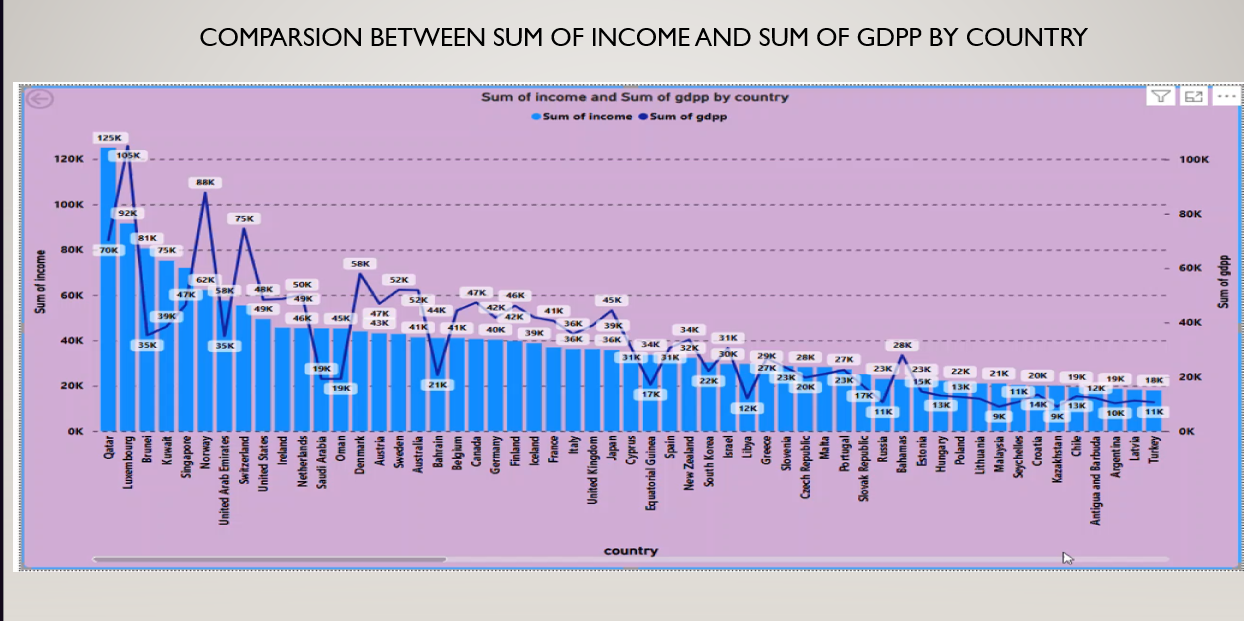

Layout of this report page (visuals, bound fields, positions):
{"tool":"powerbi","page":{"name":"Page 1","canvas":[1280,720],"ordinal":0},"visuals":[{"type":"actionButton","box":[0,0,100,40],"z":0},{"type":"textbox","box":[0,0,1166.2,720],"z":1000},{"type":"lineClusteredColumnComboChart","fields":{"Category":["Country-data.country"],"Y":["Max(Country-data.income)"],"Y2":["Sum(Country-data.gdpp)"]},"box":[12.8,58.1,1132.6,662.8],"z":3000}]}

Visuals, with their boxes on the page's 1280x720 design canvas (x1, y1, x2, y2). These are canvas units, not pixel positions in the 1244x621 screenshot, which may show the page scaled, cropped or inside an application window:
actionButton: Rect(0, 0, 100, 40)
textbox: Rect(0, 0, 1166, 720)
lineClusteredColumnComboChart - Country-data.country x Max(Country-data.income): Rect(13, 58, 1145, 721)
